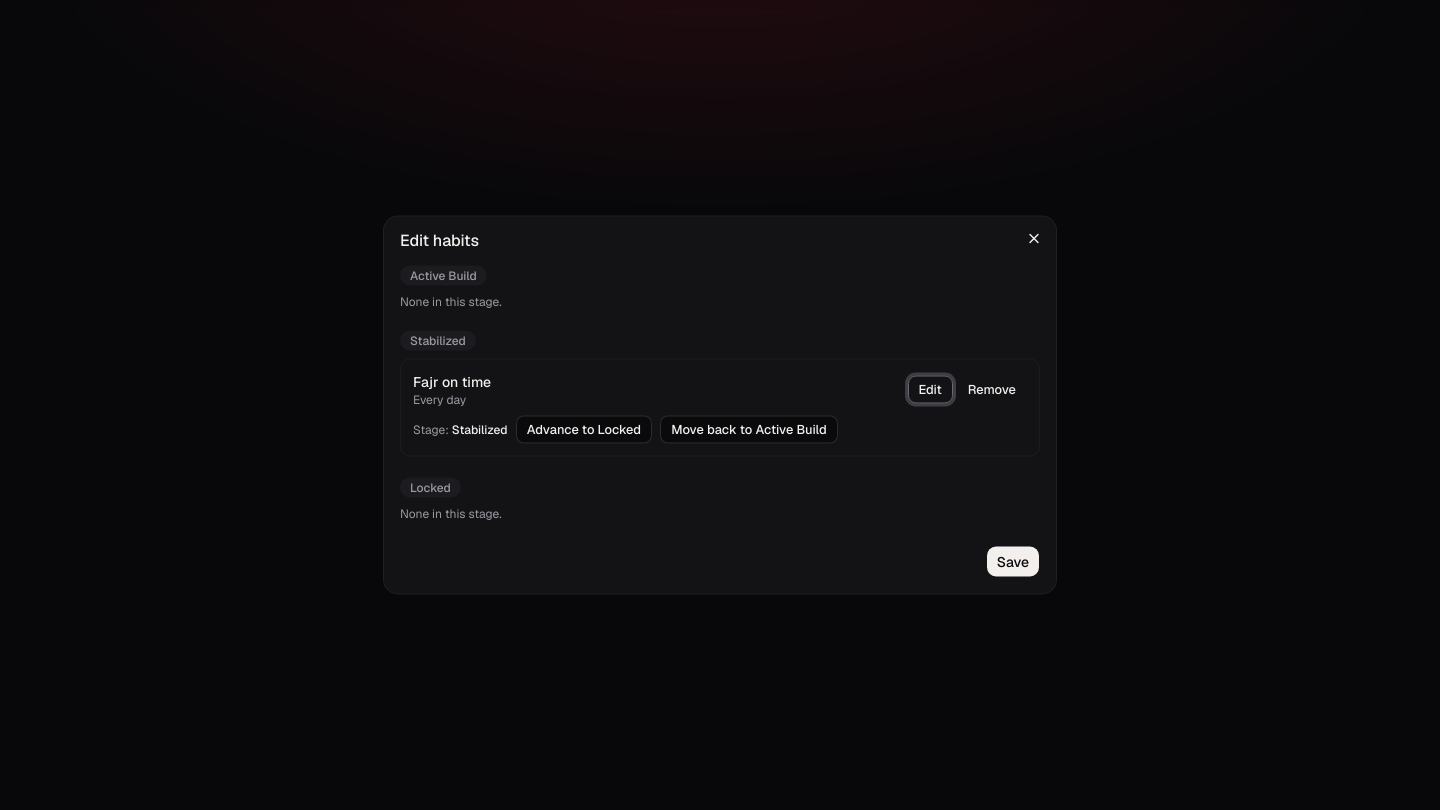
Scenario: HabitEditorDialog › back arrow returns from Edit to the main screen
This screenshot has width=1440, height=810.
Click the button "Edit".
click(930, 390)  # box [908, 376, 953, 404]
(page scrolled)
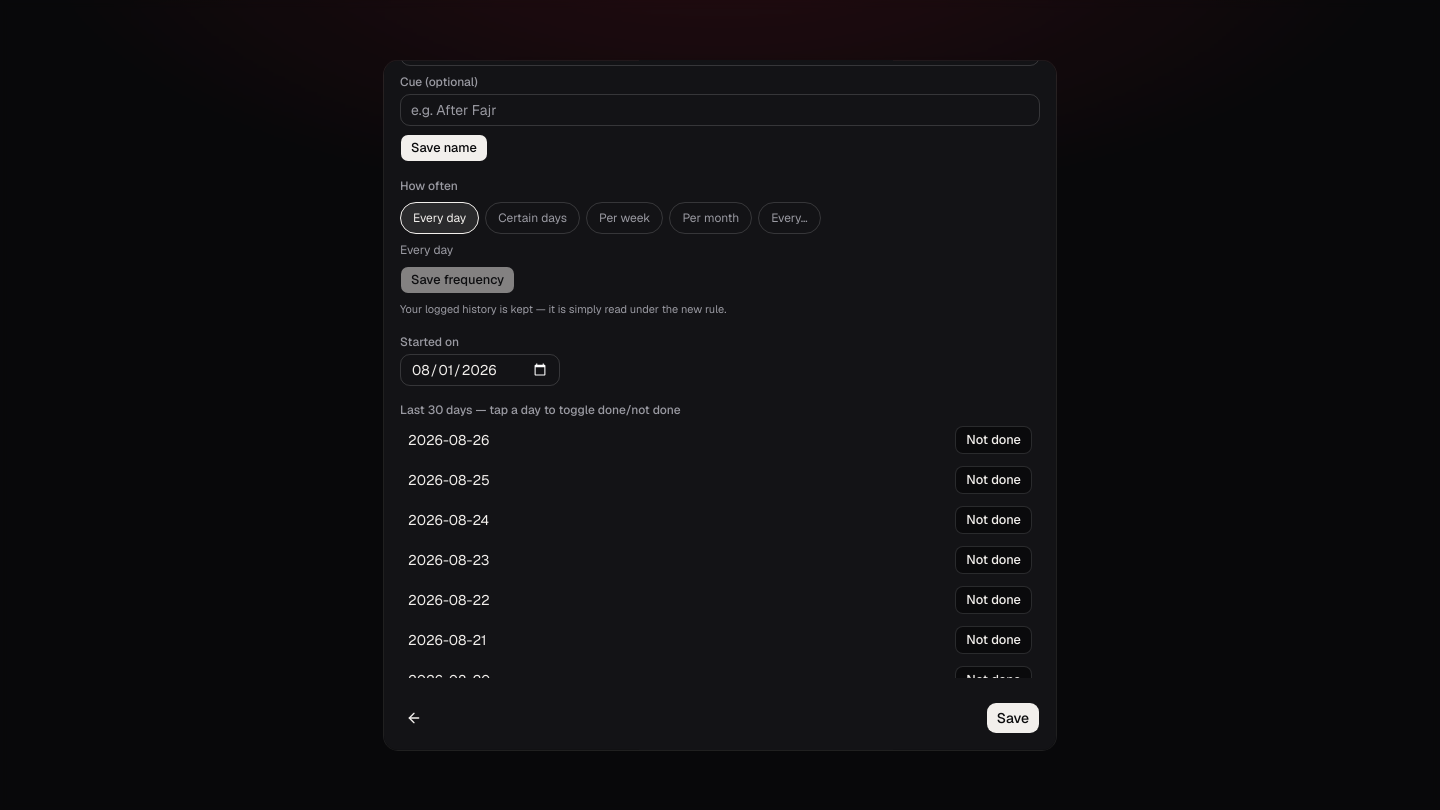
Click the button named "Back".
click(414, 718)  # box [400, 704, 428, 732]
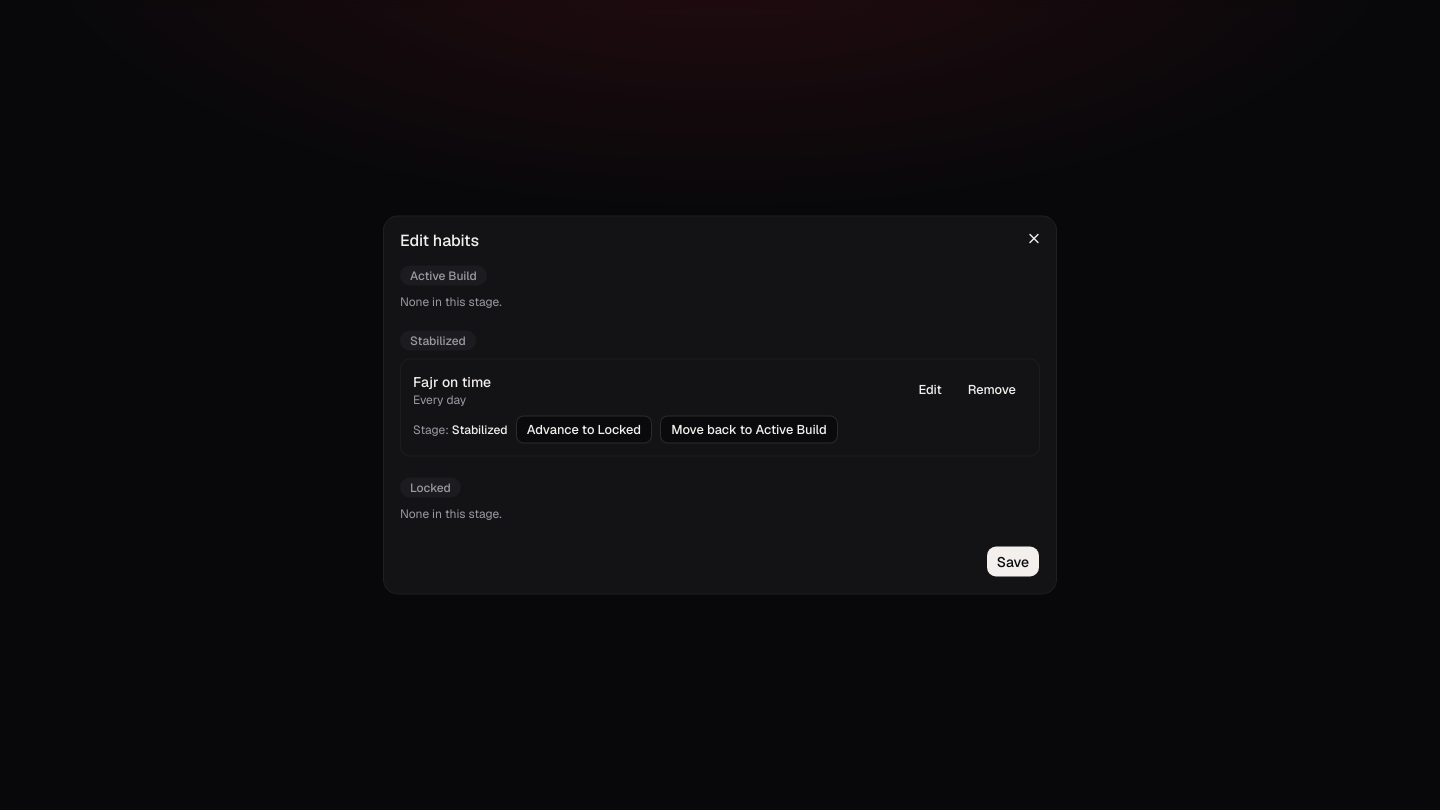
Expected: the heading "Edit habits" is shown, [400, 230, 479, 250]
